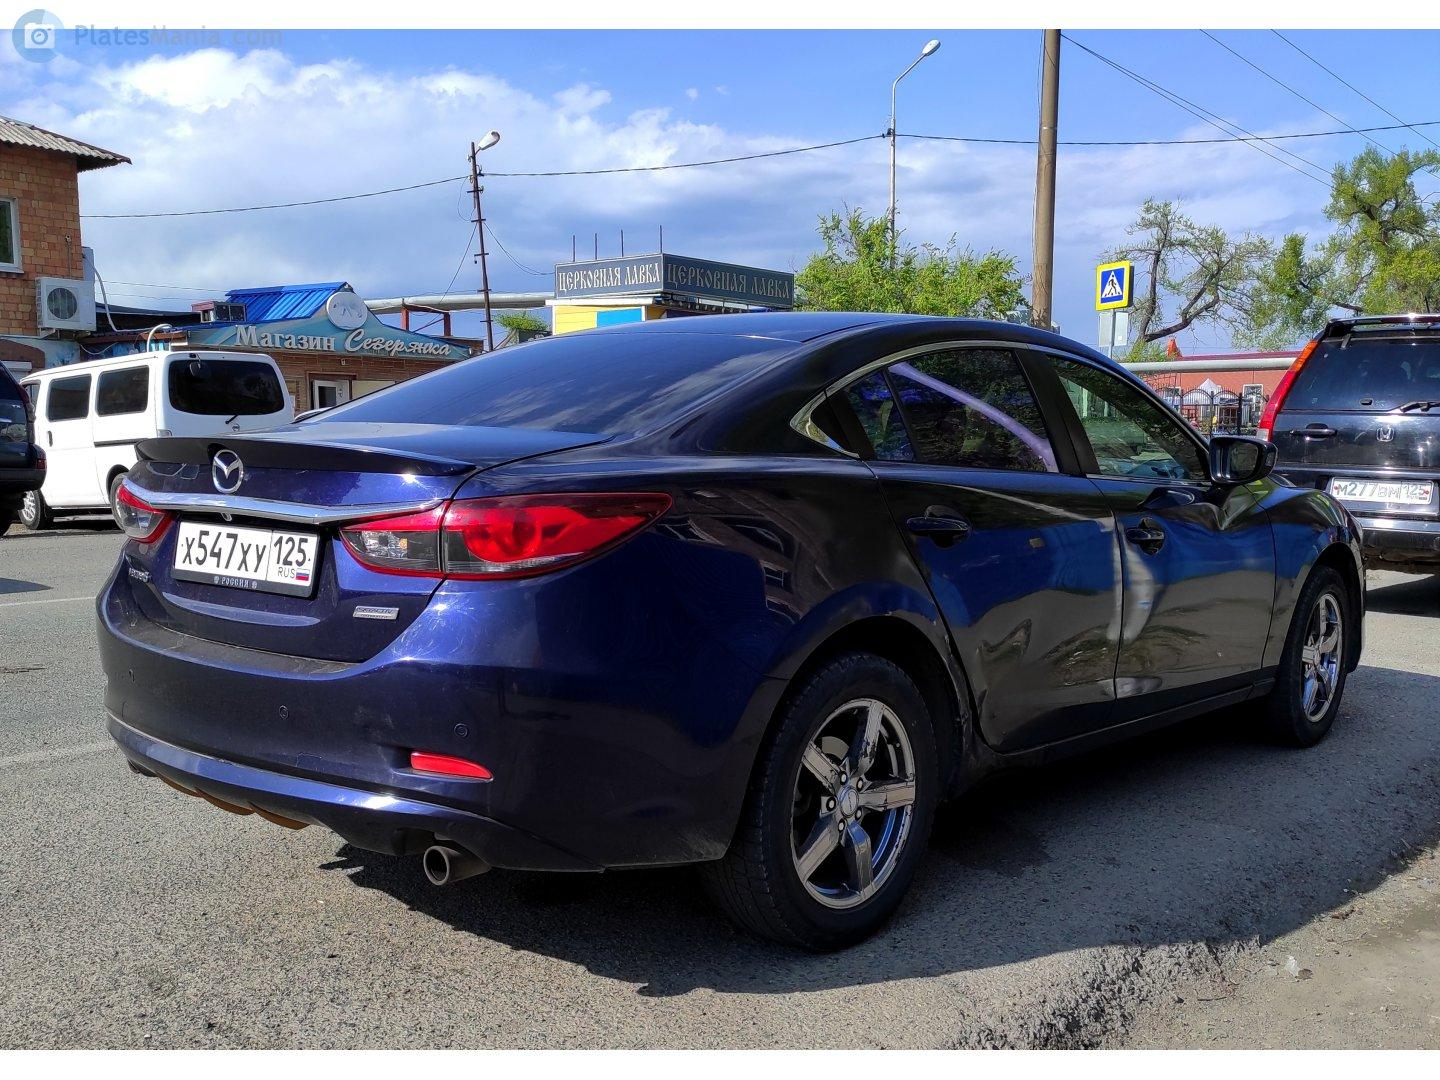license-plateSW: (172, 523, 315, 586), (1332, 479, 1437, 503)
